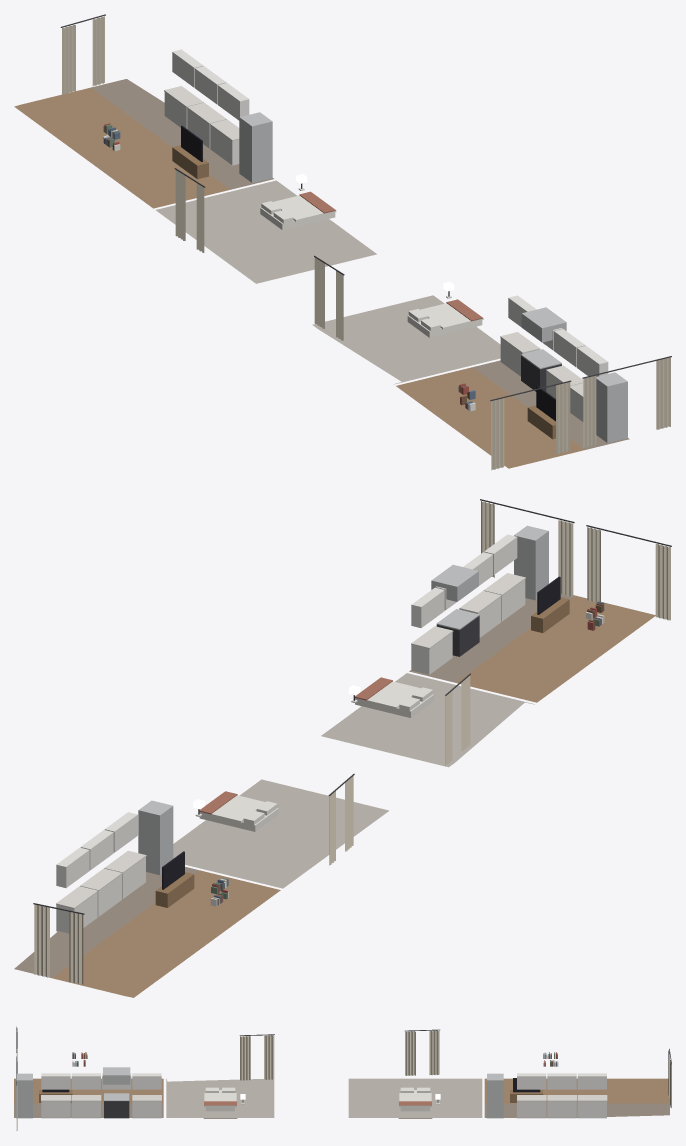
Rendered from fine-s1.glb.
The picture shows the model from 3 angles, top to bottom: view 1: azimuth 30°, elevation 25°; view 2: azimuth 150°, elevation 25°; view 3: azimuth 270°, elevation 25°; orthographic projection. The views are drawn at different scales.
Parts seen in each view (by area): view 1: soft-s1, fridge.002, range.000, fridge.001, tv-console.002, counter-run.008, tv-console.001, counter-run.006, counter-run.003, counter-run.007, kitchen-upper.009, kitchen-upper.006 (+3 smaller); view 2: soft-s1, range.000, fridge.002, fridge.001, counter-run.003, tv-console.001, tv-console.002, counter-run.006, counter-run.005, counter-run.007, counter-run.008, counter-run.004 (+5 smaller); view 3: soft-s1, range.000, fridge.002, fridge.001, counter-run.004, counter-run.006, counter-run.003, counter-run.005, counter-run.007, counter-run.008, kitchen-upper.003, kitchen-upper.005 (+7 smaller).
Part boxes in pixels (x1,y1,x2,y2): soft-s1: [14, 14, 671, 470]; fridge.002: [239, 112, 272, 182]; range.000: [521, 307, 566, 391]; fridge.001: [596, 372, 627, 442]; tv-console.002: [172, 125, 208, 179]; counter-run.008: [210, 119, 239, 165]; tv-console.001: [527, 385, 555, 439]; counter-run.006: [164, 86, 203, 128]; counter-run.003: [500, 332, 540, 376]; counter-run.007: [187, 102, 226, 148]; kitchen-upper.009: [218, 83, 249, 120]; kitchen-upper.006: [577, 346, 608, 376]; soft-s1: [14, 499, 671, 997]; range.000: [431, 564, 479, 656]; fridge.002: [138, 800, 173, 874]; fridge.001: [514, 525, 548, 600]; counter-run.003: [411, 626, 453, 674]; tv-console.001: [531, 576, 569, 632]; tv-console.002: [155, 851, 194, 907]; counter-run.006: [56, 886, 97, 933]; counter-run.005: [483, 573, 525, 621]; counter-run.007: [80, 868, 122, 916]; counter-run.008: [104, 850, 146, 899]; counter-run.004: [459, 590, 501, 637]; soft-s1: [14, 1026, 671, 1130]; range.000: [103, 1067, 130, 1118]; fridge.002: [487, 1073, 503, 1118]; fridge.001: [16, 1073, 32, 1118]; counter-run.004: [71, 1095, 101, 1118]; counter-run.006: [577, 1095, 607, 1118]; counter-run.003: [132, 1095, 161, 1118]; counter-run.005: [41, 1095, 70, 1118]; counter-run.007: [547, 1095, 576, 1118]; counter-run.008: [517, 1095, 546, 1118]; kitchen-upper.003: [132, 1073, 161, 1089]; kitchen-upper.005: [71, 1073, 100, 1089].
Size of the model in its own units: 6.62 by 2.5 by 31.42.
